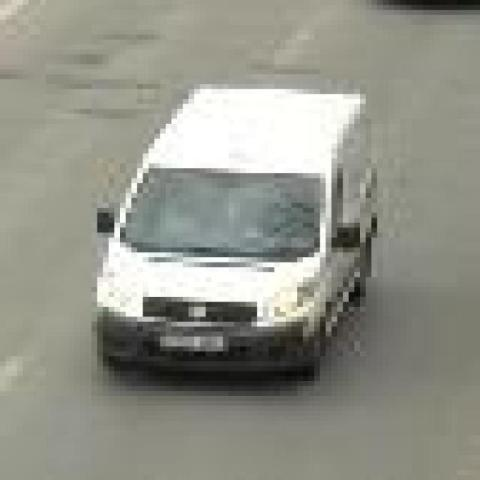van: (106, 94, 380, 376)
